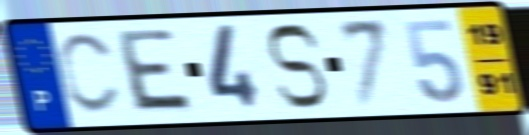4: (206, 21, 269, 117)
5: (401, 15, 466, 106)
7: (337, 15, 391, 112)
C: (55, 30, 123, 118)
E: (116, 26, 198, 115)
S: (262, 21, 330, 113)
